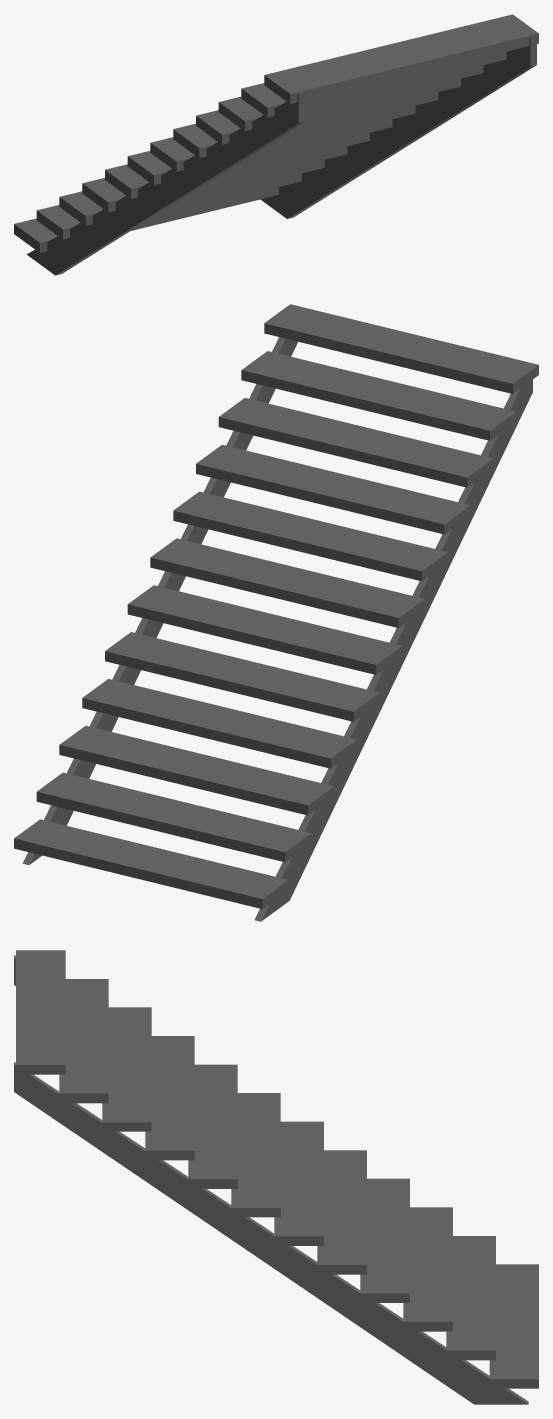
Rendered from SM_Stairs.glb.
3 renders of one model, top to bottom at view 1: azimuth 30°, elevation 25°; view 2: azimuth 150°, elevation 25°; view 3: azimuth 270°, elevation 25°, orthographic. The views are drawn at different scales.
Parts seen in each view (by area): view 1: SM_Stairs; view 2: SM_Stairs; view 3: SM_Stairs.
Boxes of the visible parts, <box> form: SM_Stairs: <box>14,14,538,275</box>; SM_Stairs: <box>14,304,538,921</box>; SM_Stairs: <box>14,950,538,1404</box>.
Size of the model in its own units: 195 by 270 by 376.
1 material, 1 textured.
